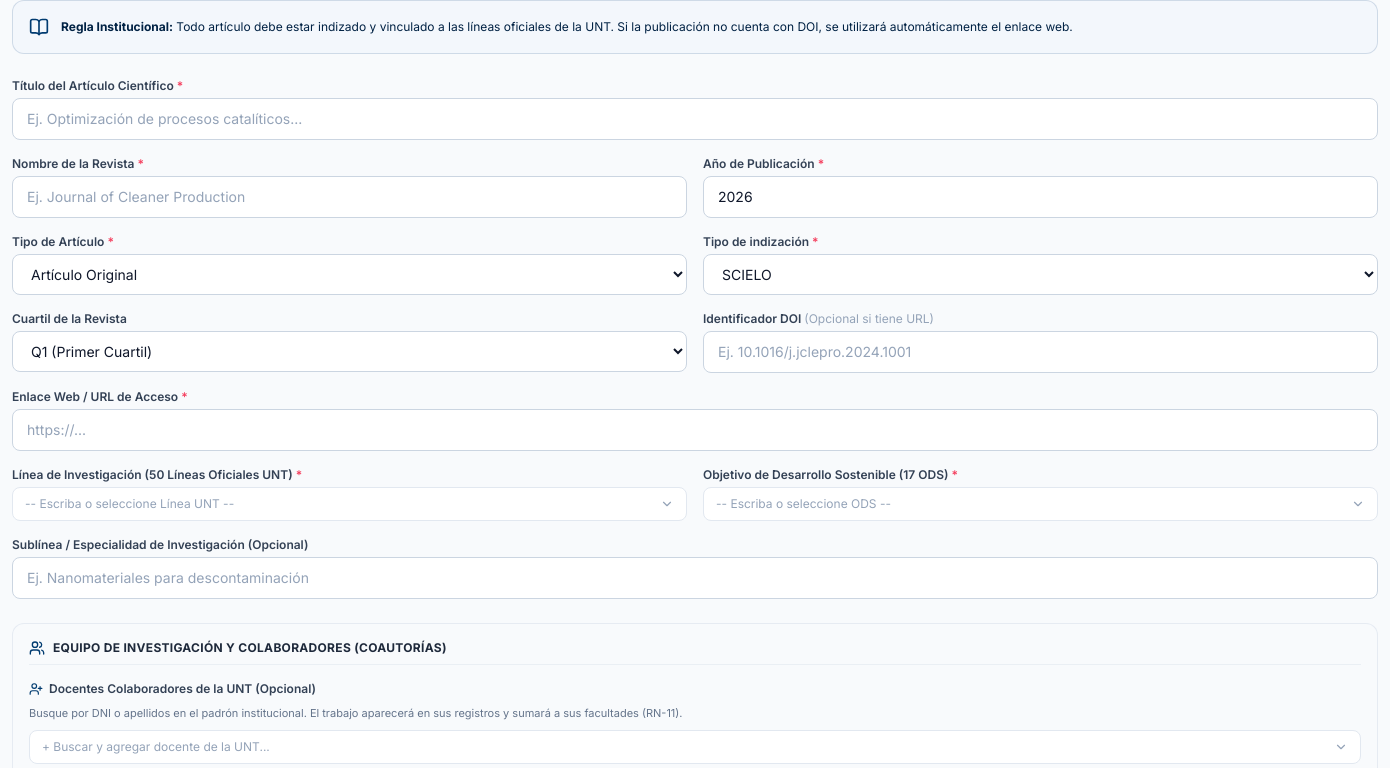
Scenario: FormArticulo (CU-06 & RN-04: Artículo Científico) › renderiza los campos requeridos y las opciones de catálogos con búsqueda
Check: the text "Título del Artículo Científico *" is shown, box x1=12 y1=78 x2=183 y2=93
Check: the text "Nombre de la Revista *" is shown, box x1=12 y1=156 x2=144 y2=171
Note: Al hacer clic en el selector de línea UNT, muestra las opciones filtrables
Click the text "-- Escriba o seleccione Línea UNT --".
click(130, 504)  # box x1=25 y1=496 x2=234 y2=512
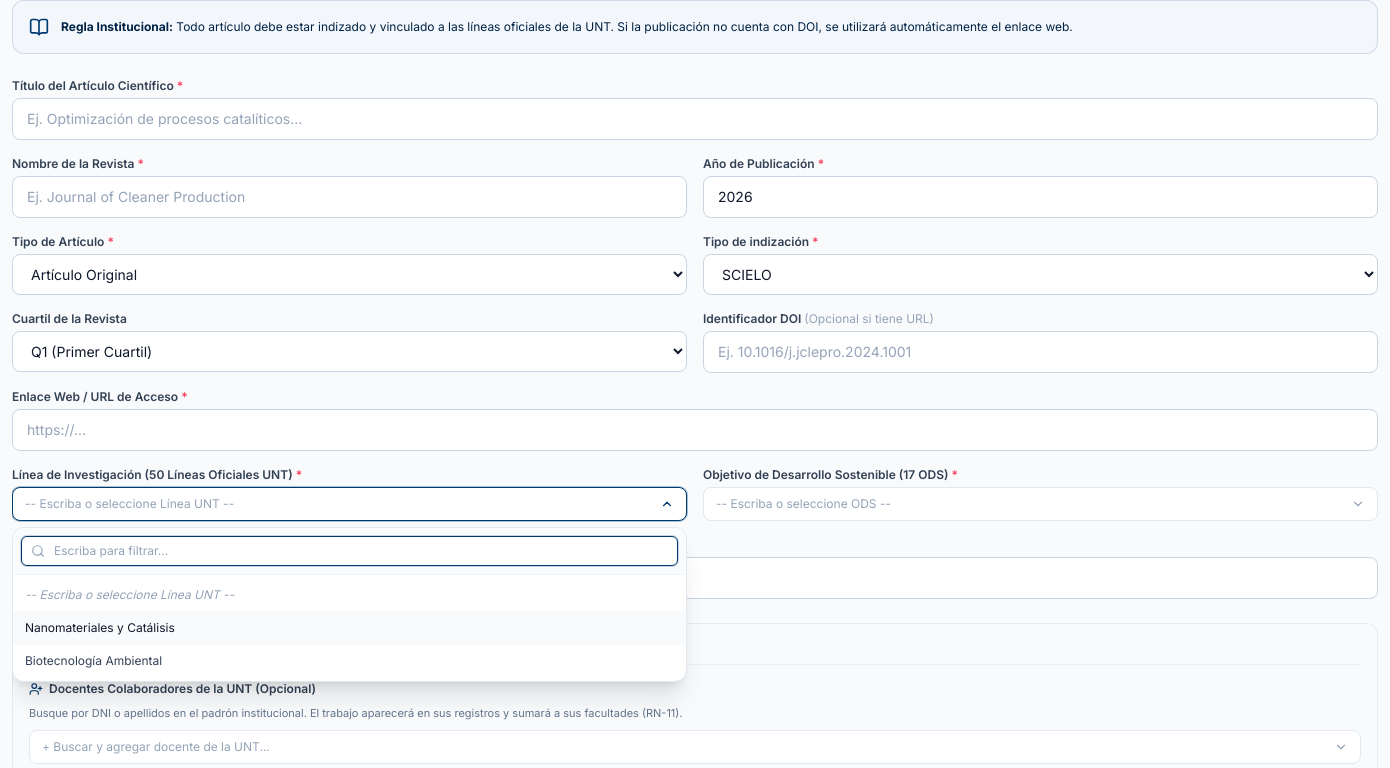
Check: the text "Nanomateriales y Catálisis" is shown, box x1=25 y1=620 x2=183 y2=636
